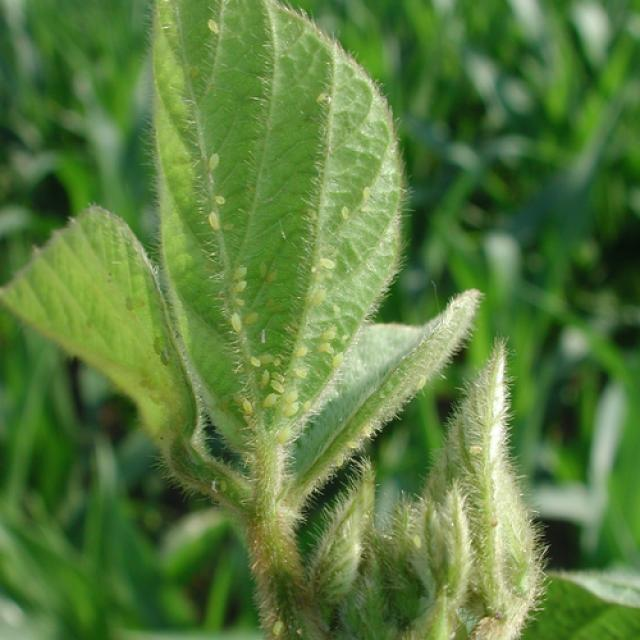Aphid-Grouped-: (211, 252, 343, 424)
